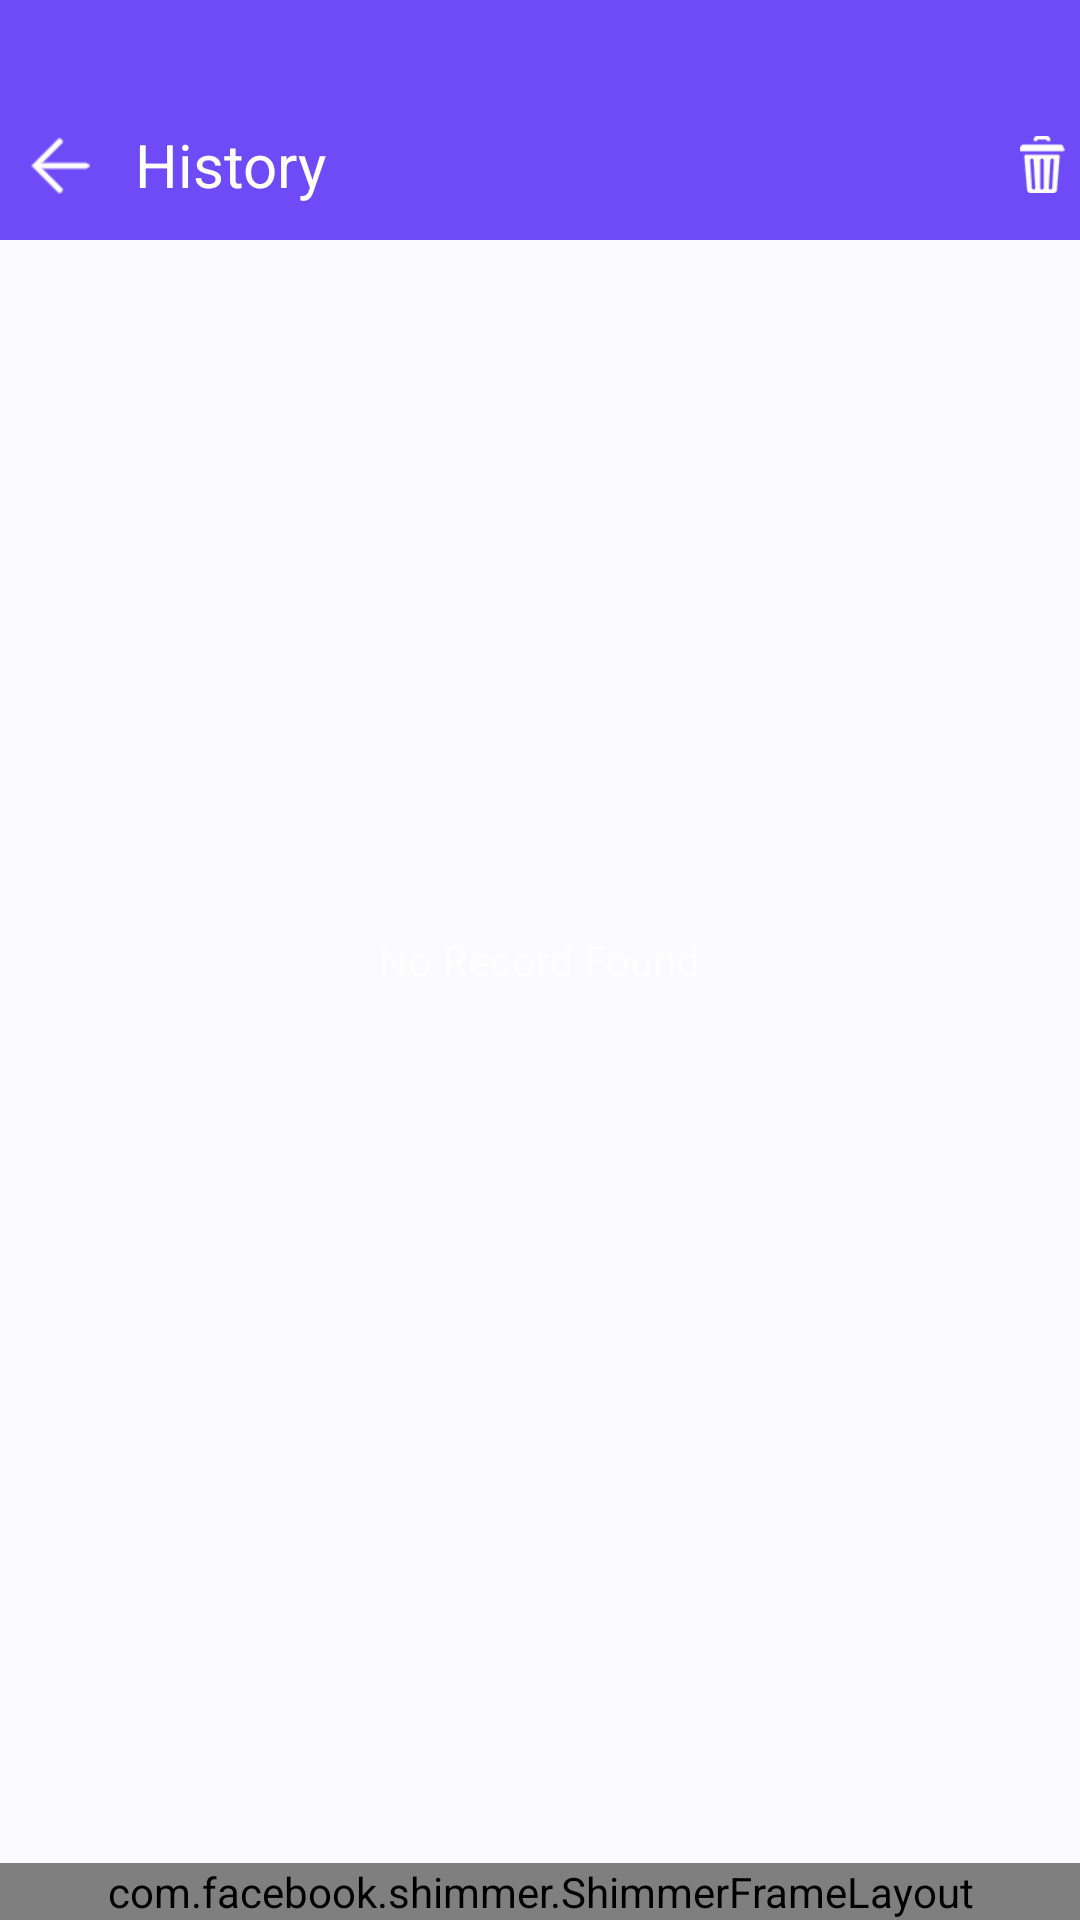

Named icons in this screenshot (1080 x 1920) and their centers, (x,y):
back: (60,166)
delete: (1042,164)
